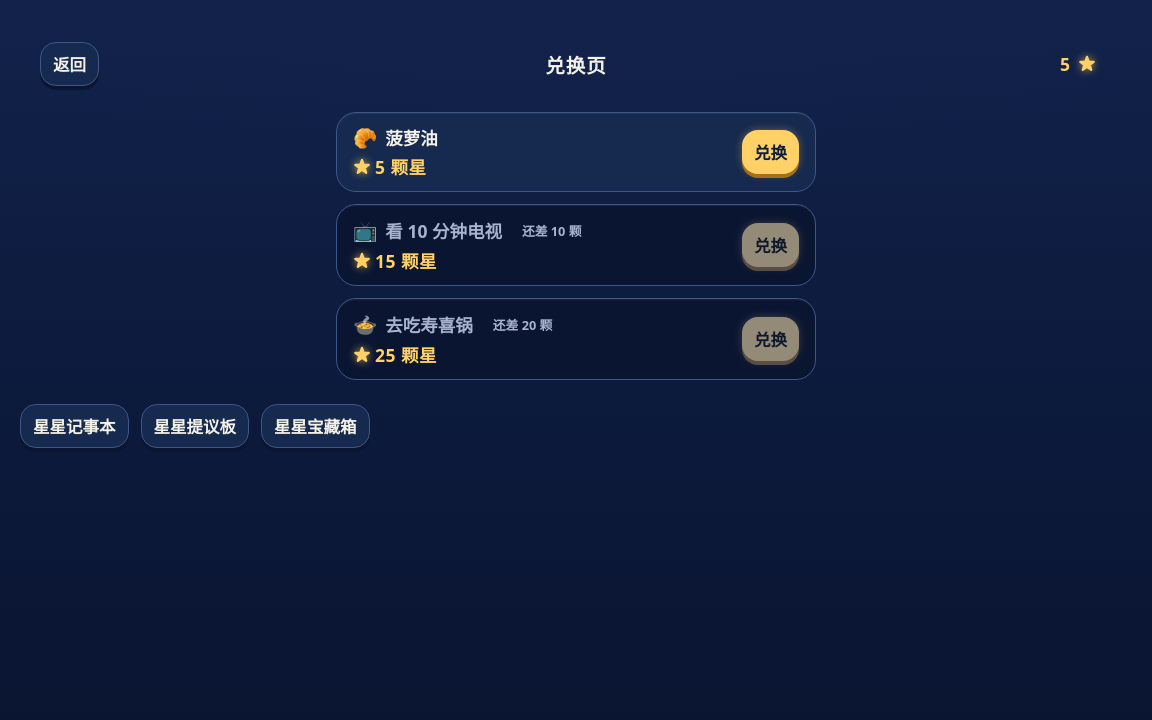
Test: AC7-4 / AC7-5 确认兑换 › AC7-5 余额恰好等于价格：兑换成功，余额显示 0
This screenshot has width=1152, height=720.
Click the button with class "star-reward-redeem" in the row of "菠萝油" at (770,152), box [742, 130, 799, 174]
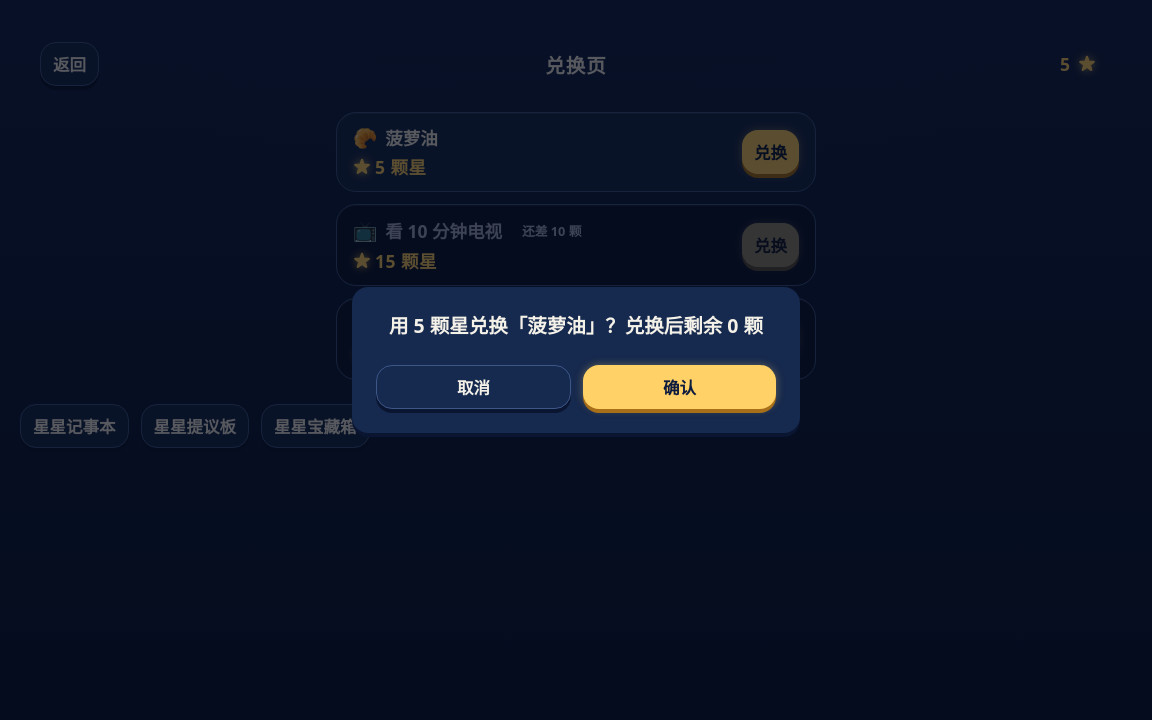
Click the button with class "star-button--primary" showing "确认" at (680,387), box [583, 365, 776, 409]
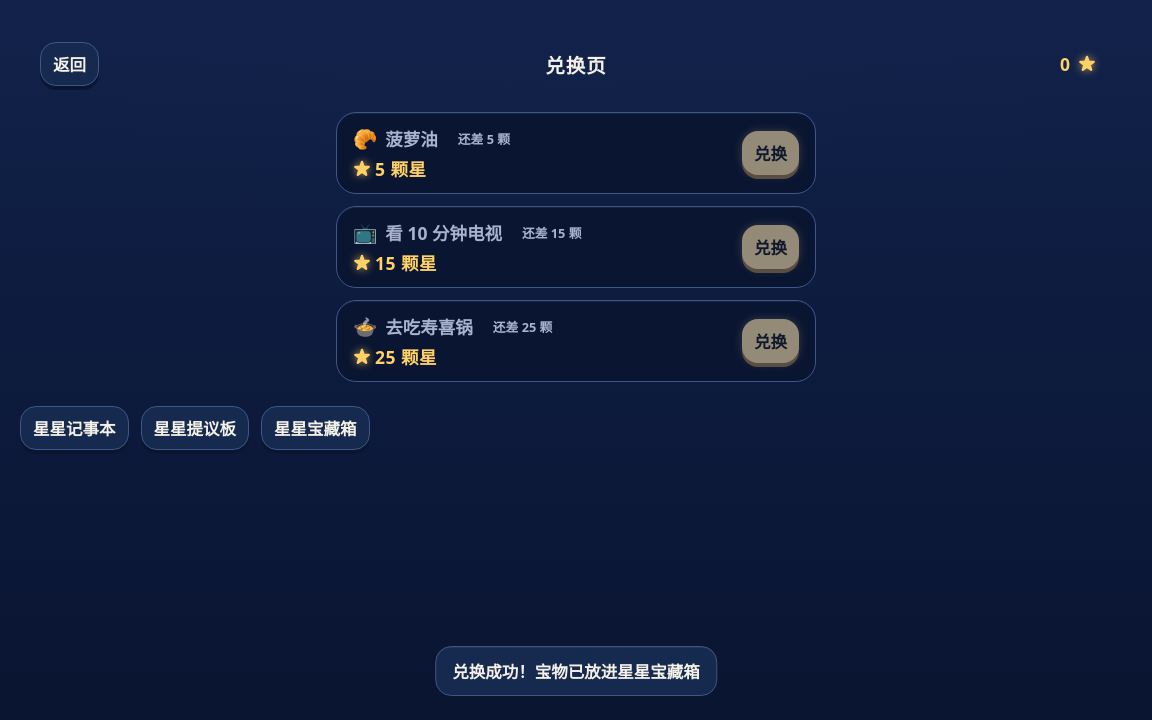
expect the message with class "balance-chip" reads "0": met, box [1060, 52, 1070, 76]
